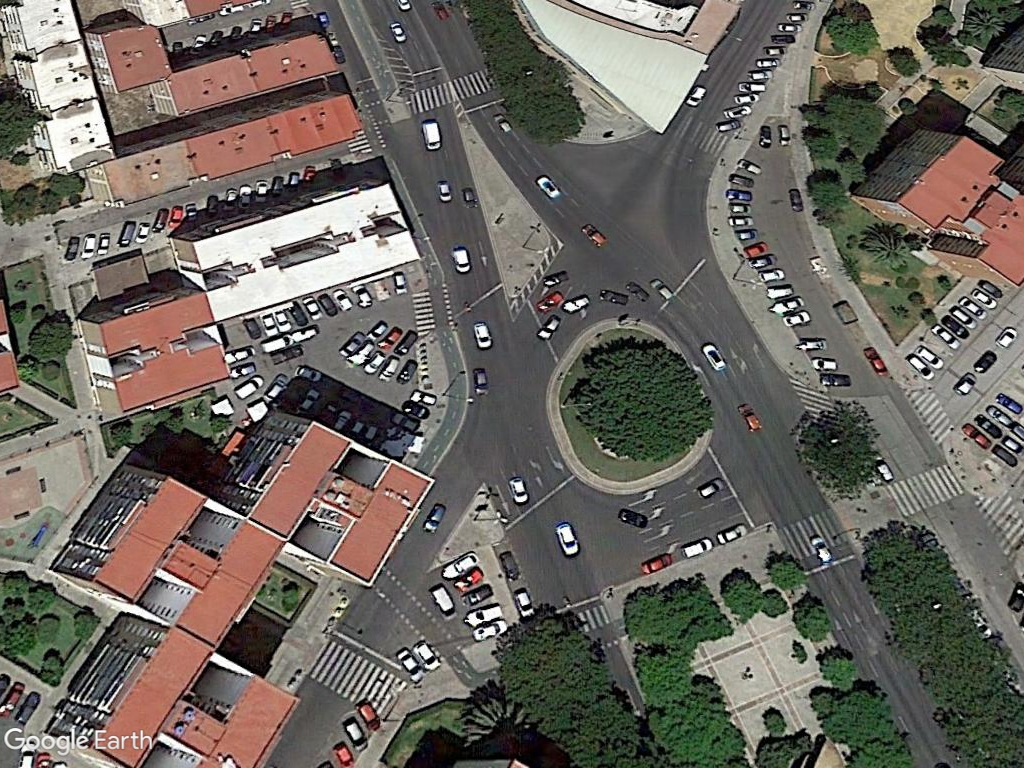car: (552, 520, 581, 560), (467, 320, 496, 353), (449, 244, 474, 278)
truck: (417, 112, 443, 155)
